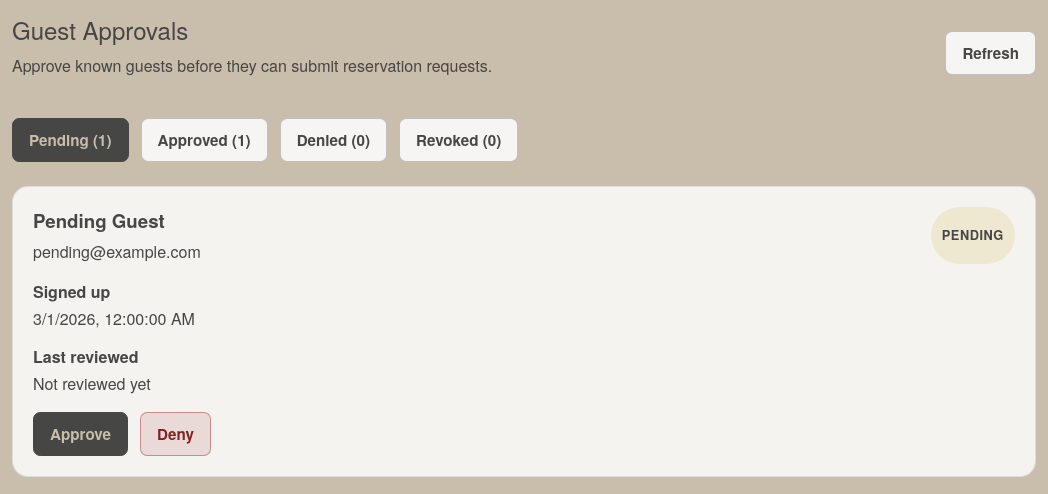
Test: Guests › switches between status tabs and shows empty state when needed
Check: the heading "Guest Approvals" is shown, box [12,12,188,47]
Click the button "Approved (1)" at (204, 140), box [141,118,268,162]
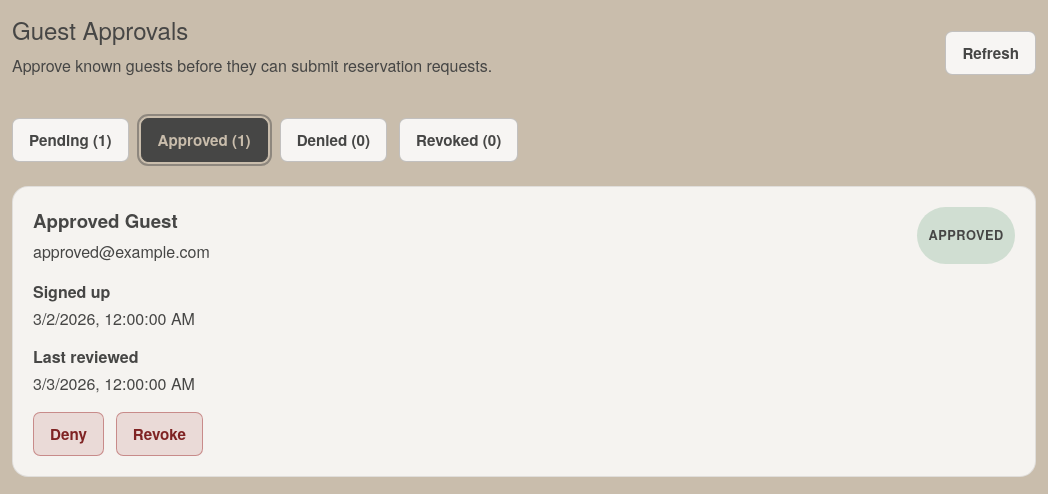
Check: the heading "Approved Guest" is shown, box [33,207,178,234]
Click the button "Denied (0)" at (333, 140), box [280,118,387,162]
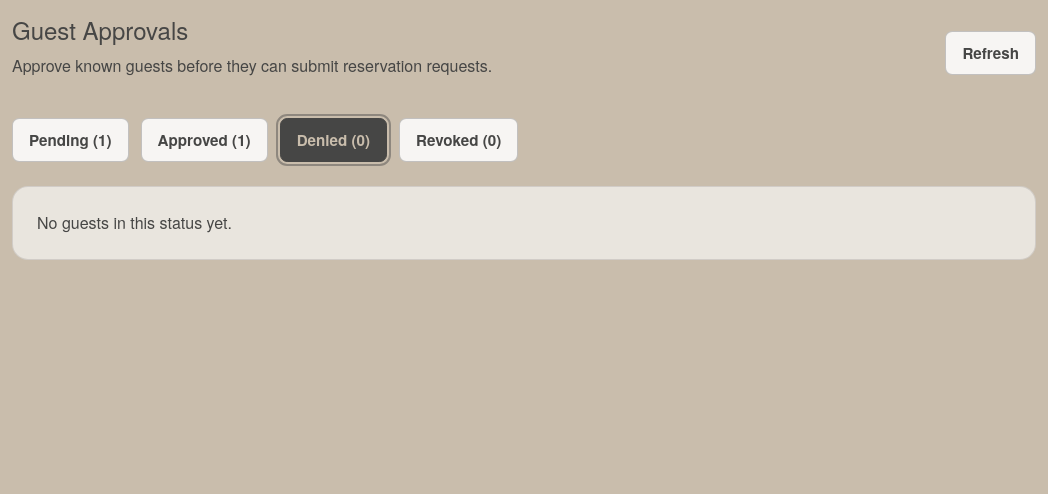
Check: the text "No guests in this status yet." is shown, box [12,186,1036,260]
